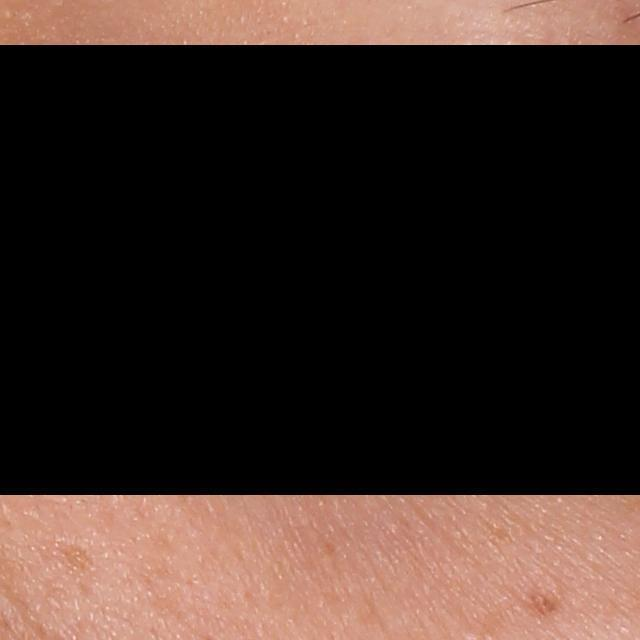melasma: (49, 536, 97, 577), (512, 582, 560, 617)
